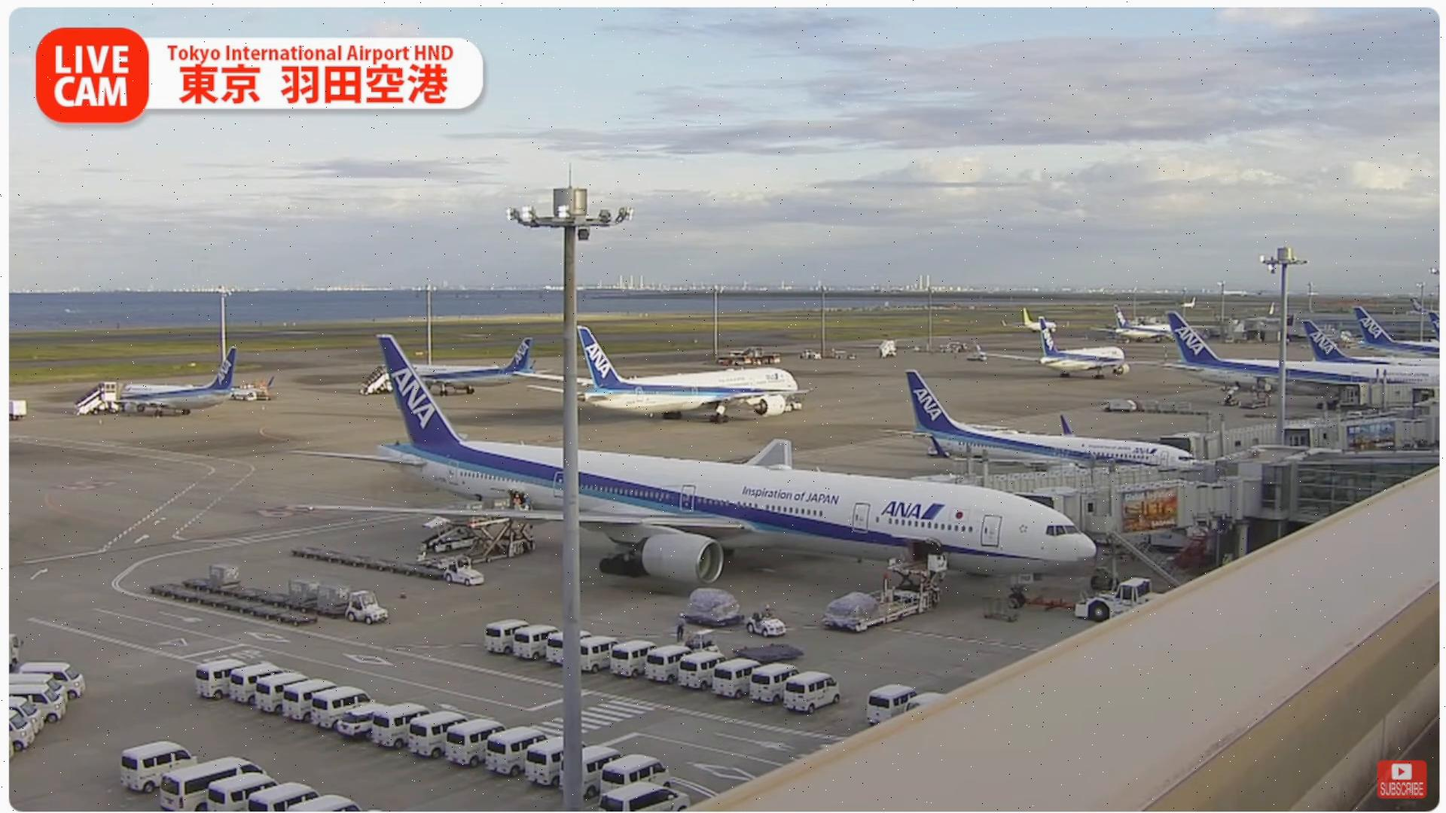APS: (1073, 579, 1171, 624)
Aerobridge: (937, 438, 1217, 490), (1025, 480, 1229, 535)
Airplane: (279, 328, 1098, 610)
Dolly: (149, 581, 320, 627), (188, 575, 348, 618), (304, 547, 448, 582), (727, 639, 816, 663), (663, 614, 742, 625)
JCPL: (825, 565, 937, 632), (442, 511, 533, 564)
Skyloader: (417, 513, 486, 554)
Tractor: (346, 592, 393, 628), (745, 603, 788, 634), (444, 556, 485, 587), (689, 626, 718, 653)
Window: (1286, 455, 1435, 523)
